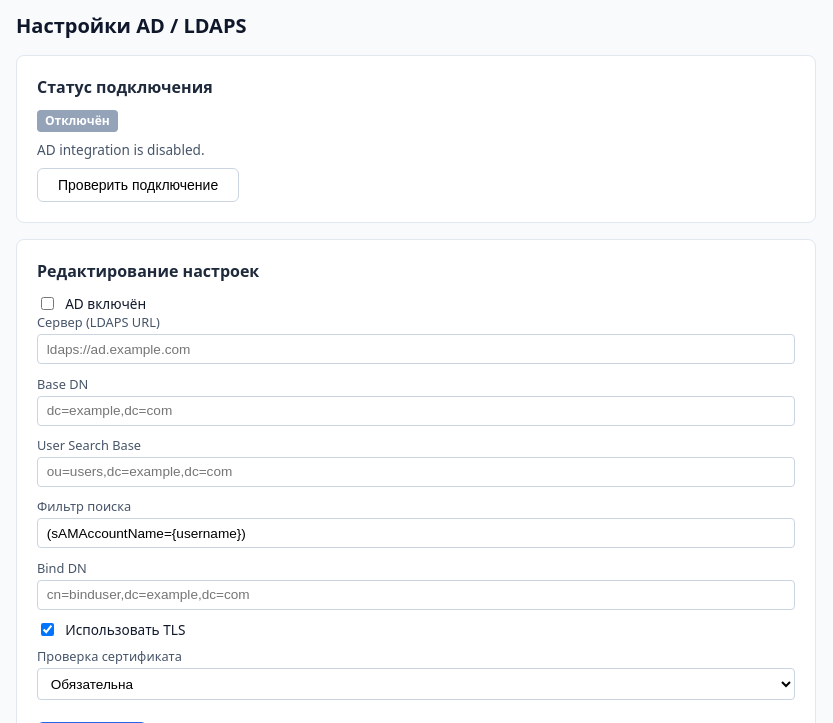
Test: ADSettingsPage — test connection flow › shows test result after clicking test button
This screenshot has width=833, height=723.
Click the button with test id "adsettings-test-btn" at [138, 185], box left=37, top=168, right=239, bottom=202
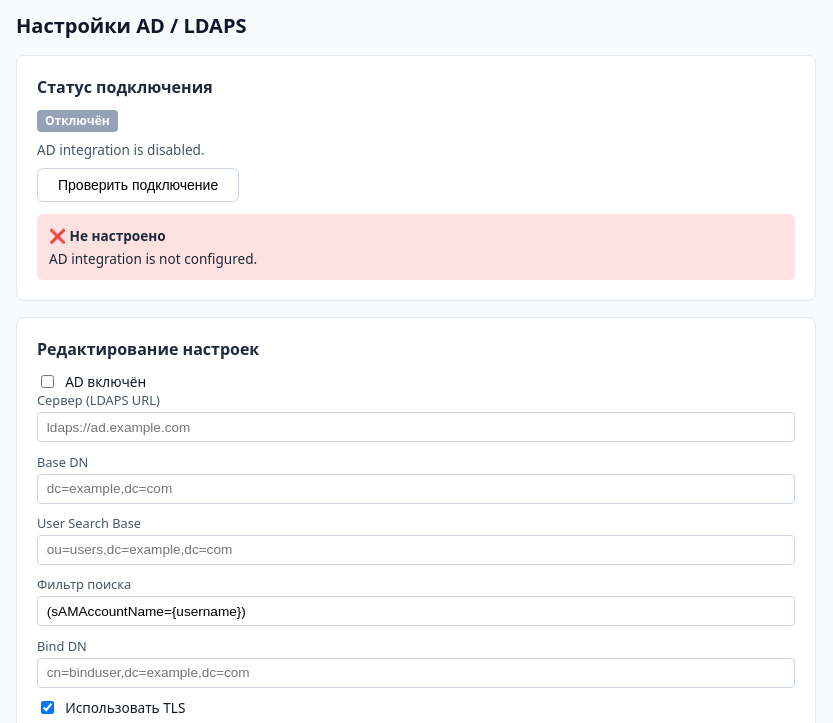
Check: the element with test id "adsettings-test-error" is shown, box left=37, top=214, right=795, bottom=280
Check: the text "AD integration is not configured." is shown, box left=49, top=249, right=257, bottom=268
